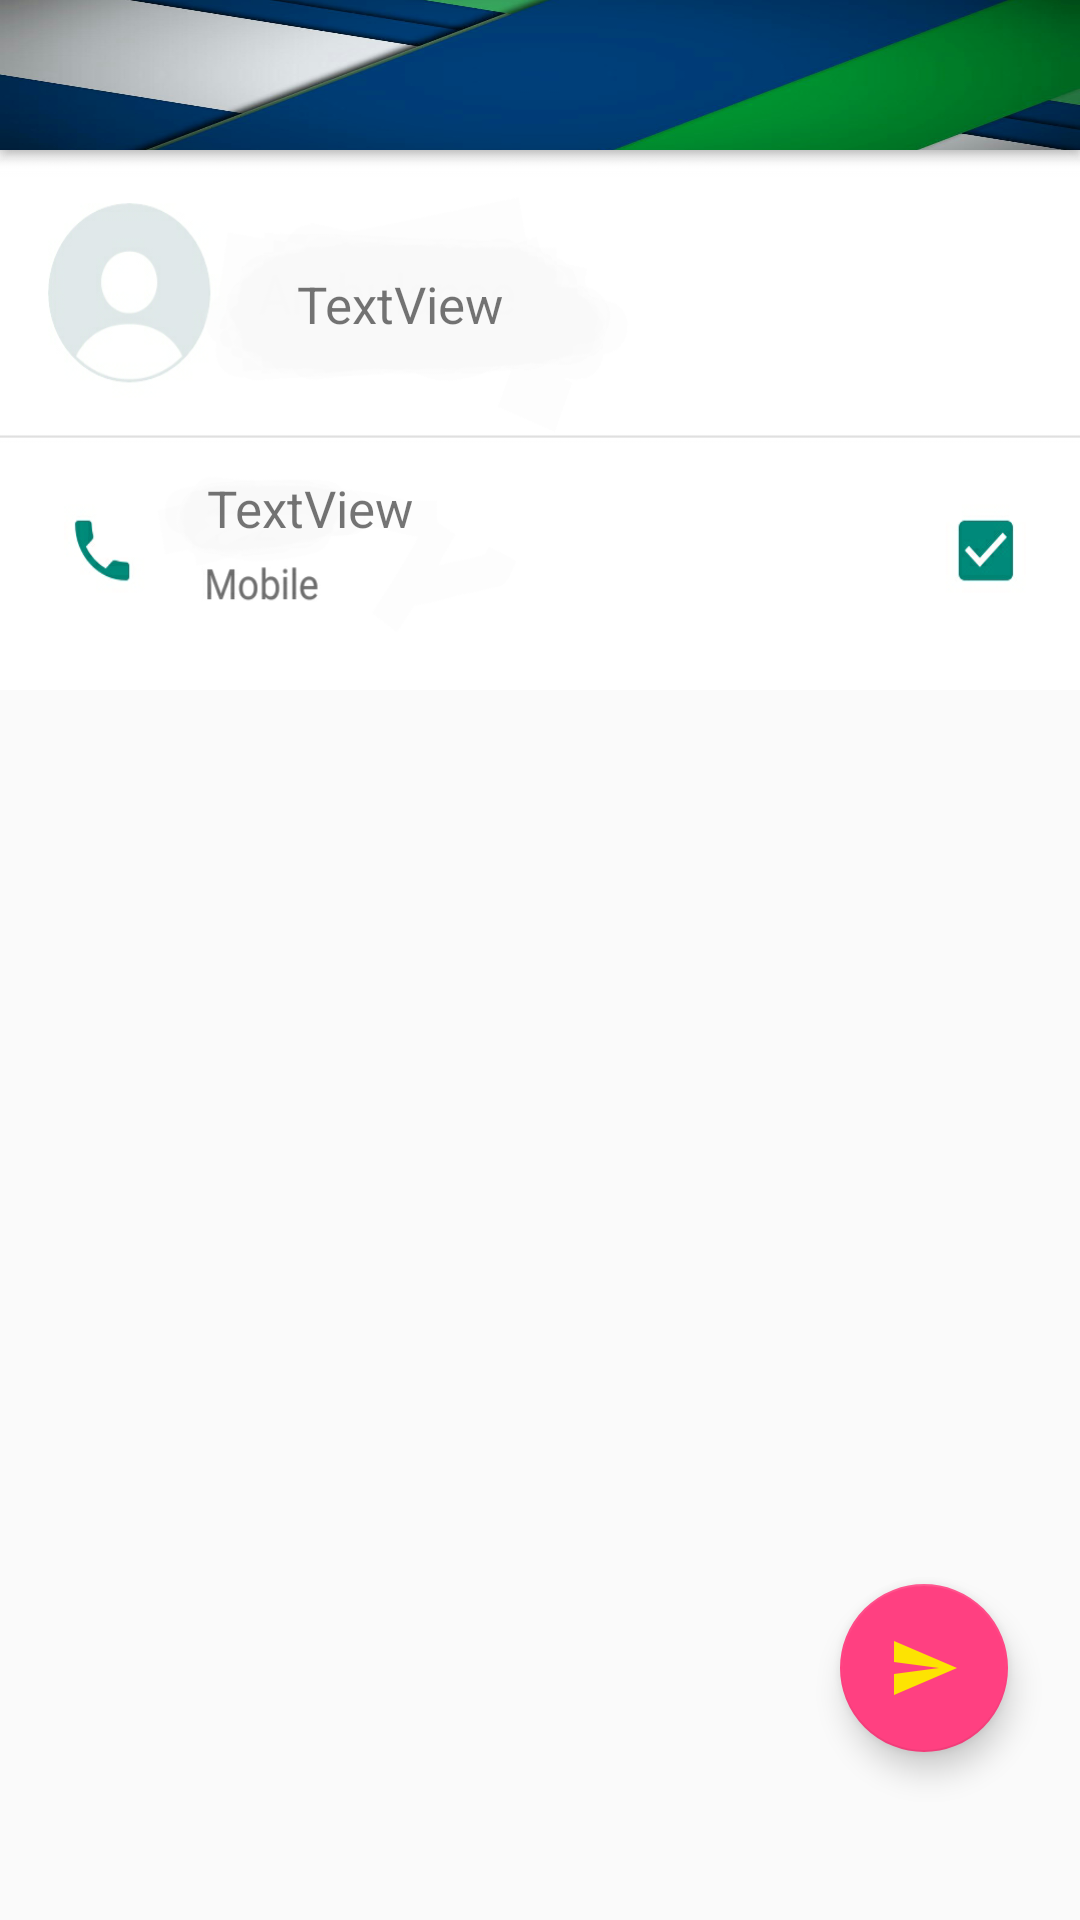

Point at icon controls on the screen. Image size 1080w x 1920h, points as [x,y].
send: [924,1668]
